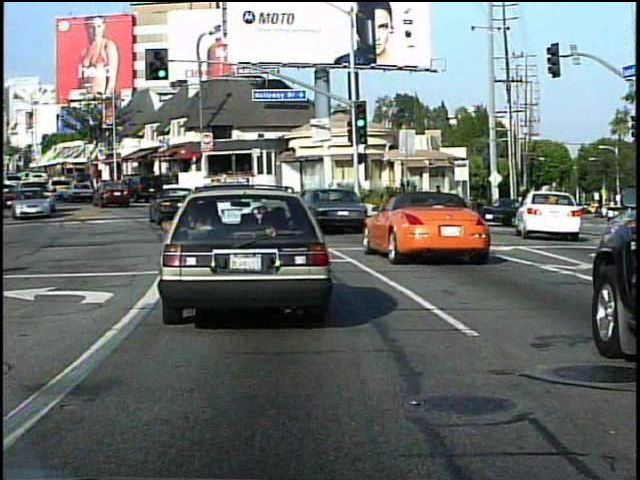person: (430, 182, 447, 221)
